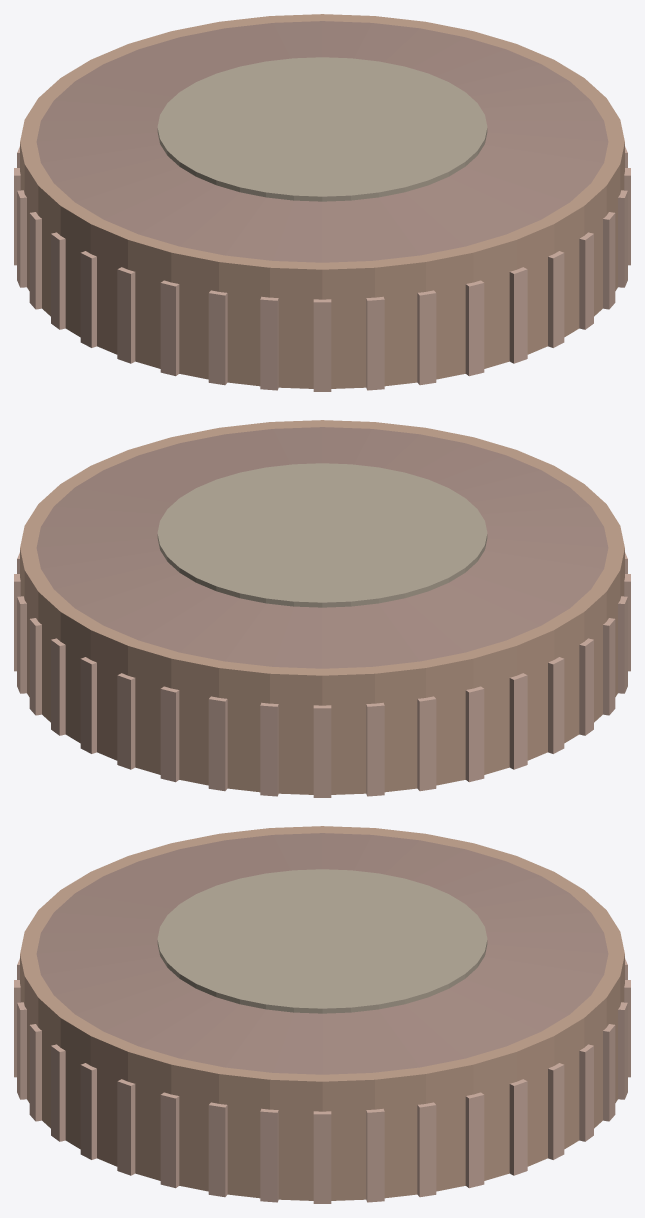
Rendered from lasventas.glb.
3 views of the same model, one above another, from view 1: azimuth 30°, elevation 25°; view 2: azimuth 150°, elevation 25°; view 3: azimuth 270°, elevation 25° (orthographic).
Size of the model in its own units: 112 by 27 by 112.
